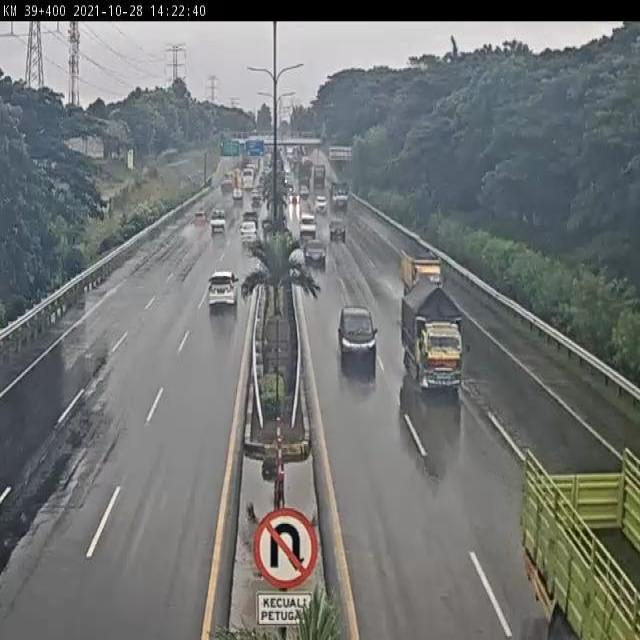car: (337, 305, 378, 367), (204, 267, 238, 309), (302, 233, 325, 264), (298, 210, 317, 238), (239, 221, 260, 244), (207, 209, 226, 232), (241, 210, 260, 230), (328, 216, 346, 237), (193, 211, 208, 229)
truck-m-: (402, 280, 464, 393), (398, 242, 444, 294)
